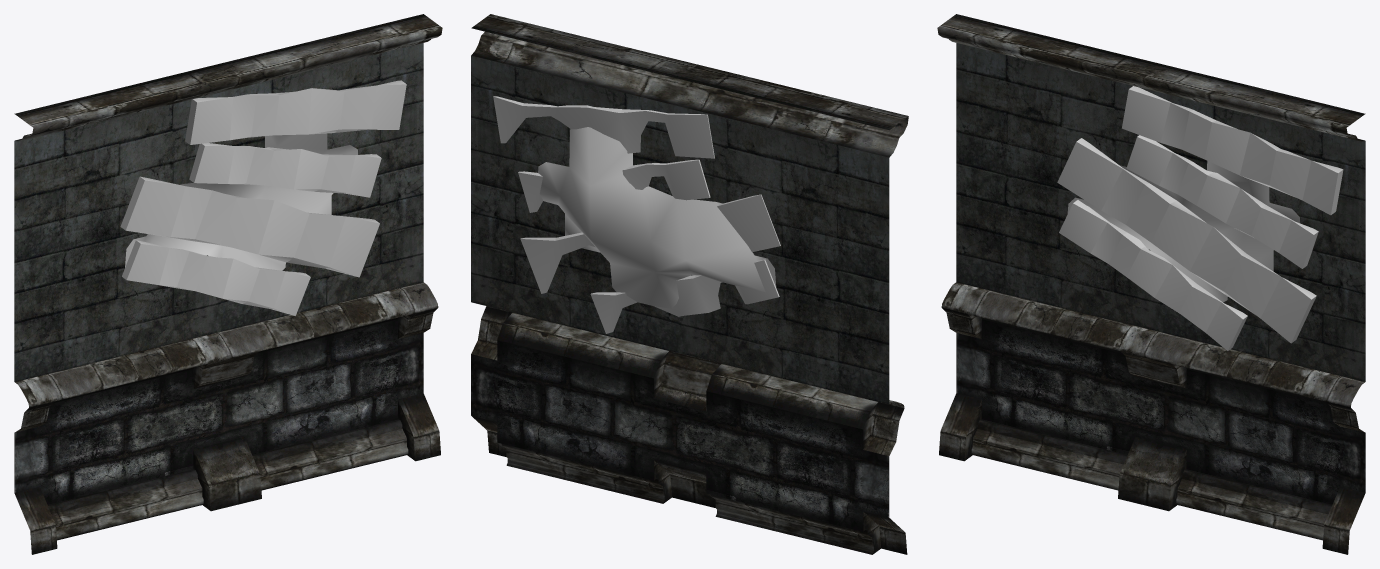
File: default_broken02_alt.dae
The picture shows the model from 3 angles, left to right: view 1: azimuth 30°, elevation 25°; view 2: azimuth 150°, elevation 25°; view 3: azimuth 330°, elevation 25°; orthographic projection. The views are drawn at different scales.
Visible parts, largest first — view 1: polySurface120, polySurface121, polySurface116; view 2: polySurface120, polySurface116, polySurface121; view 3: polySurface120, polySurface121, polySurface116.
Part boxes in pixels (x1,y1,x2,y2): polySurface120: (14, 14, 442, 554); polySurface121: (120, 80, 406, 315); polySurface116: (125, 133, 357, 270); polySurface120: (471, 14, 908, 554); polySurface116: (538, 127, 776, 308); polySurface121: (493, 96, 780, 333); polySurface120: (937, 14, 1365, 554); polySurface121: (1057, 86, 1343, 350); polySurface116: (1067, 161, 1299, 302).
Size of what is drawn, in the model's own units: 4 by 4 by 0.6759.
